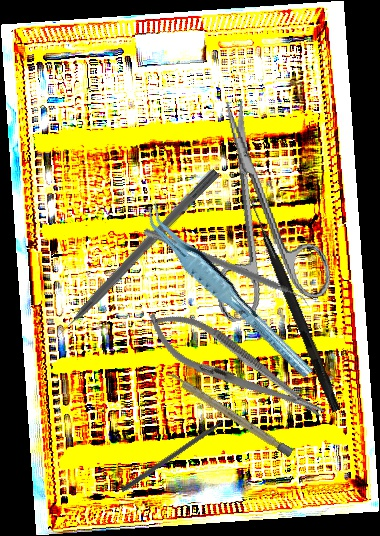Hook Surgical: (241, 193, 344, 413)
Iris Scissors: (181, 89, 336, 324)
Needle Holder: (137, 297, 334, 436)
Pusher: (44, 166, 221, 348), (120, 409, 241, 494)
Scalpel Handle: (165, 369, 294, 458)
Spatula Surgical: (139, 227, 315, 310)
Tissue Forceps: (139, 188, 315, 396)
